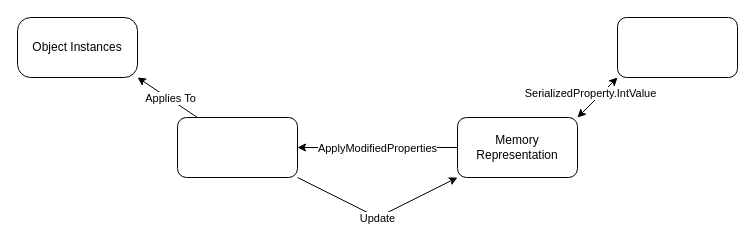
Some shapes in this 755 by 243 pixel diagram are drawn without their labels. The shapes that lost their labels are listed below. From the top down, each one's centre as x and y in pixels, then its label:
At point (677, 47): "Inspector".
At point (237, 147): "Serialized State".
